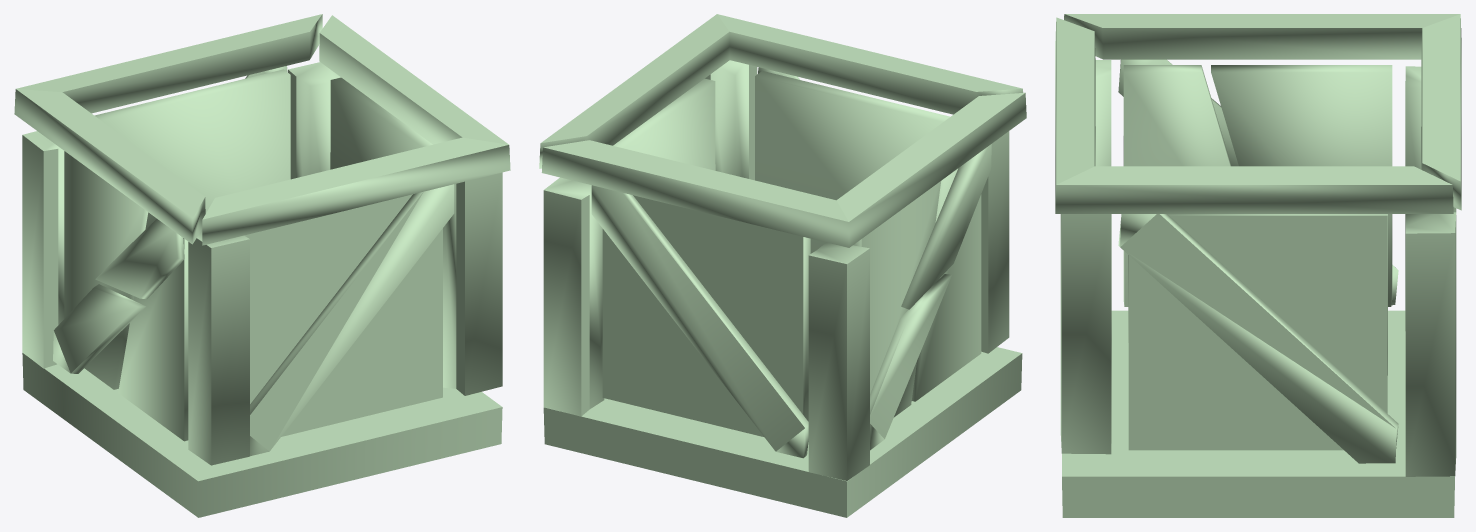
The model's file is Crate_Fractured.fbx.
3 views of the same model, side by side, from view 1: azimuth 30°, elevation 25°; view 2: azimuth 150°, elevation 25°; view 3: azimuth 270°, elevation 25° (orthographic). The views are drawn at different scales.
Parts seen in each view (by area): view 1: Crate_Fractured; view 2: Crate_Fractured; view 3: Crate_Fractured.
Boxes of the visible parts, x1,y1,x2,y2 form: Crate_Fractured: (14,14,510,517); Crate_Fractured: (539,14,1026,517); Crate_Fractured: (1055,14,1461,517).
Size of the model in its own units: 103 by 94.25 by 103.
